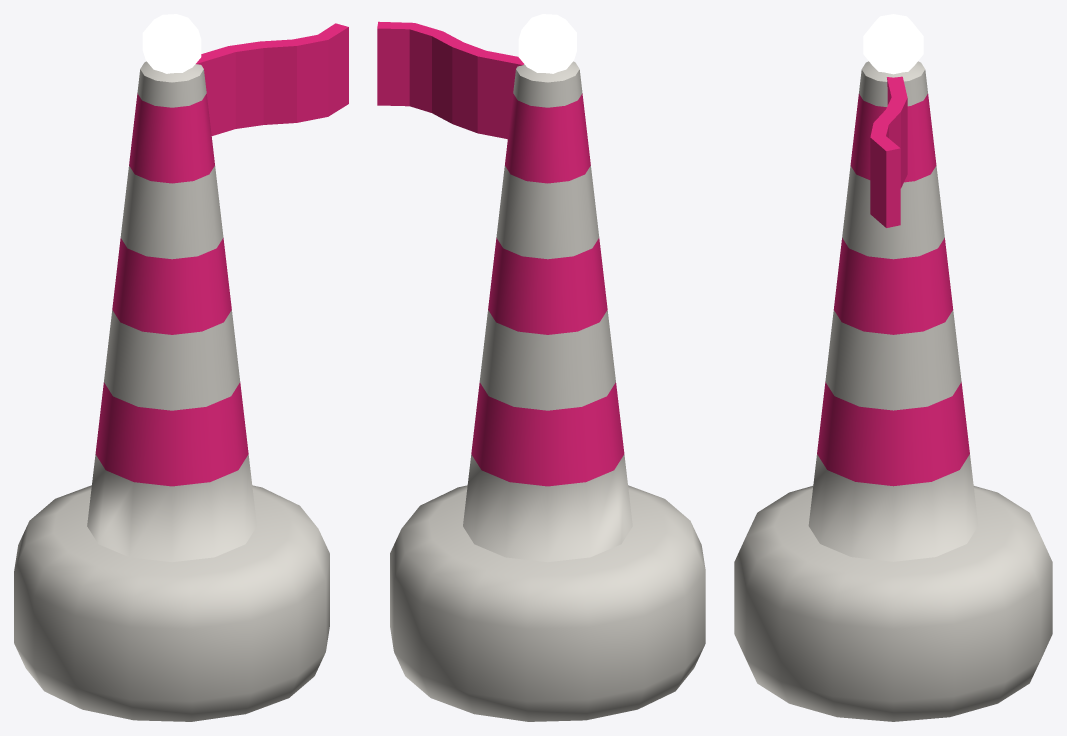
Rendered from W6_Buoy_C.fbx.
The picture shows the model from 3 angles, left to right: view 1: azimuth 30°, elevation 25°; view 2: azimuth 150°, elevation 25°; view 3: azimuth 270°, elevation 25°; orthographic projection.
Parts seen in each view (by area): view 1: Static, Pennant; view 2: Static, Pennant; view 3: Static, Pennant.
Boxes of the visible parts, x1,y1,x2,y2 form: Static: [14, 14, 329, 721]; Pennant: [196, 23, 348, 135]; Static: [390, 14, 705, 721]; Pennant: [377, 21, 523, 139]; Static: [734, 14, 1052, 721]; Pennant: [870, 76, 907, 227].
Bounding box in the file's own units: 1.35 × 2.72 × 1.2.
